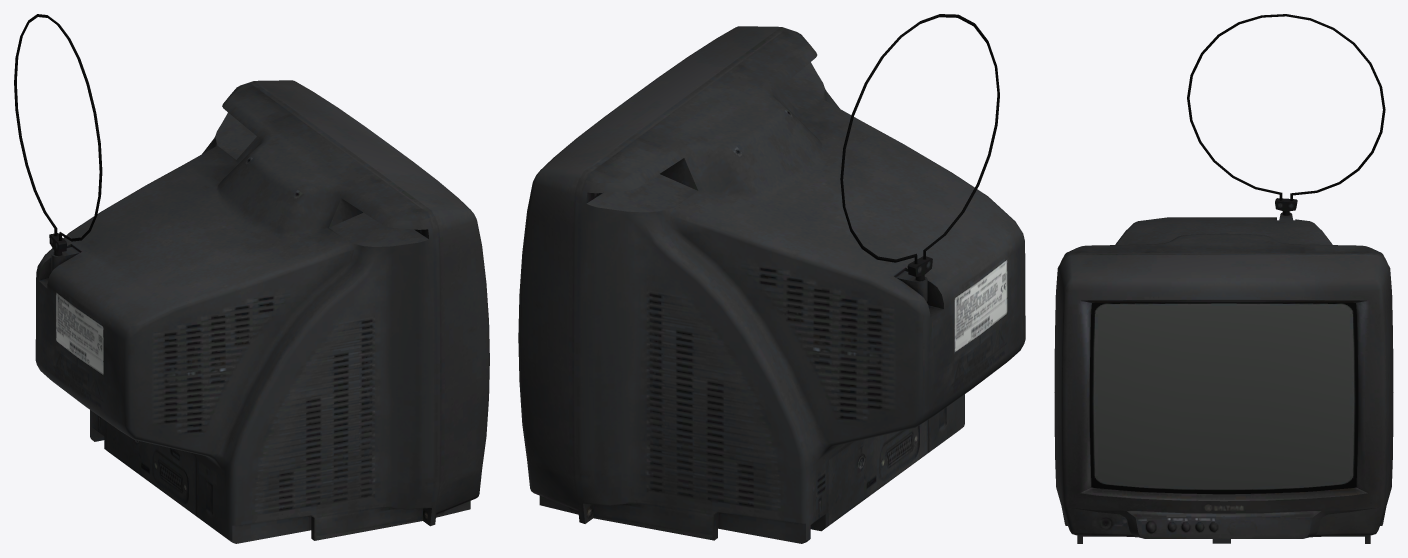
The model's file is tv_scientist_head.glb.
3 renders of one model, left to right at view 1: azimuth 30°, elevation 25°; view 2: azimuth 150°, elevation 25°; view 3: azimuth 270°, elevation 25°, orthographic. The views are drawn at different scales.
Parts seen in each view (by area): view 1: tv_small_reference.smd_0; view 2: tv_small_reference.smd_0; view 3: tv_small_reference.smd_0.
Boxes of the visible parts, <box> form: tv_small_reference.smd_0: <box>14,14,489,543</box>; tv_small_reference.smd_0: <box>518,14,1025,543</box>; tv_small_reference.smd_0: <box>1054,14,1393,543</box>.
Bounding box in the file's own units: 0.3755 × 0.5132 × 0.3879.
Materials: 2 (2 with a texture image).
